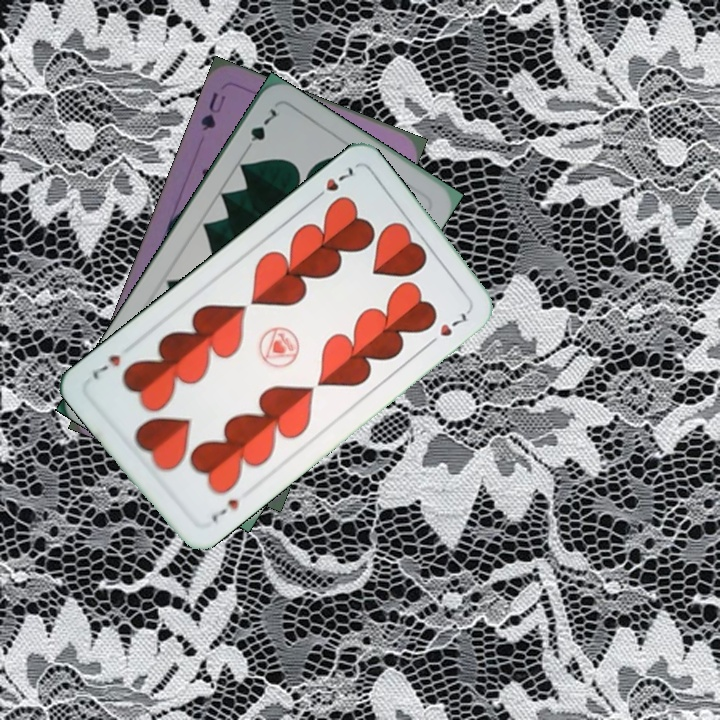G7: (240, 104, 280, 156)
GU: (196, 88, 229, 134)
H7: (309, 163, 356, 204), (207, 494, 242, 525)
